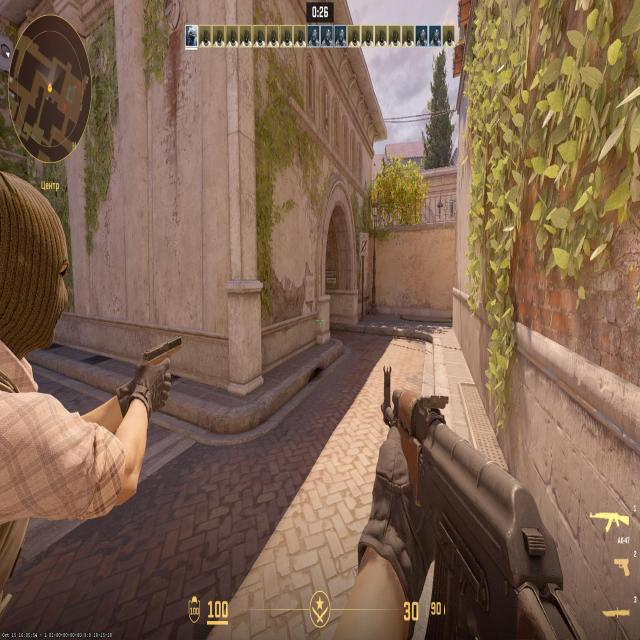T: (0, 208, 59, 586)
T_heat: (1, 217, 32, 306)
